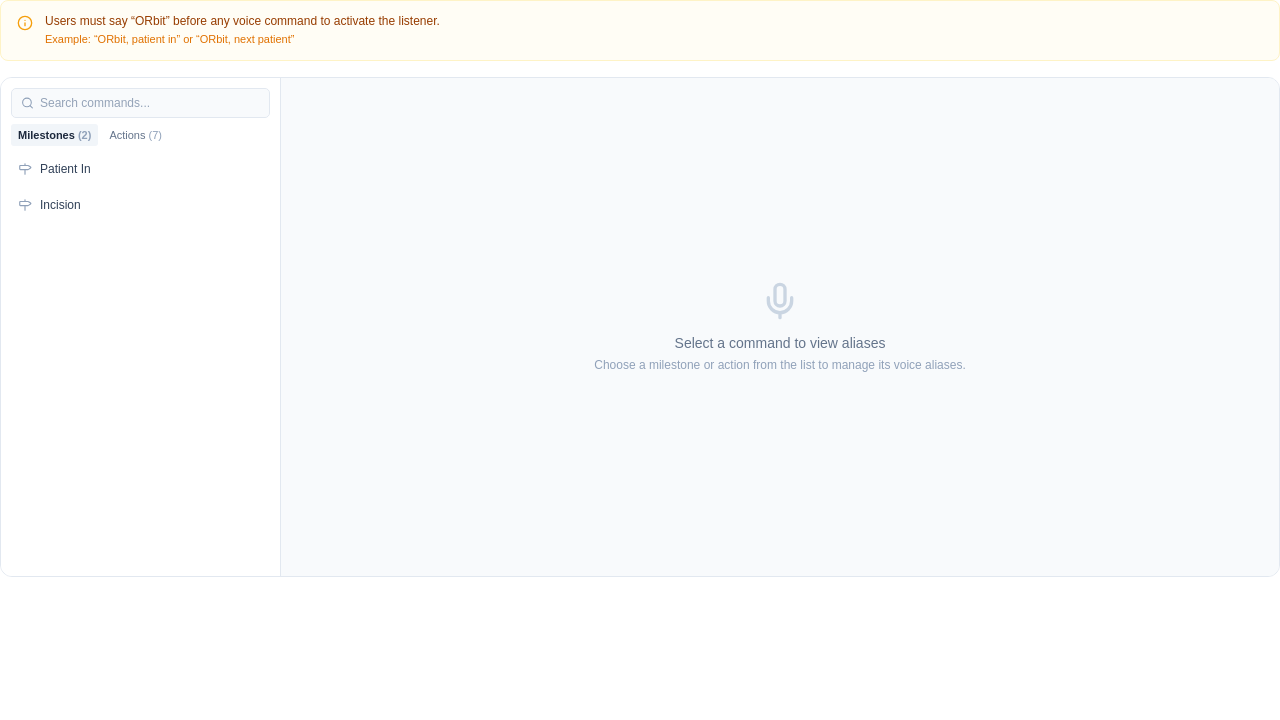
Scenario: Voice Commands Workflow › Workflow: Global aliases are protected › shows Global tag and hides delete button for global aliases
Select Patient In milestone
Click the text "Patient In".
click(65, 169)  # box 40,161 -> 91,177
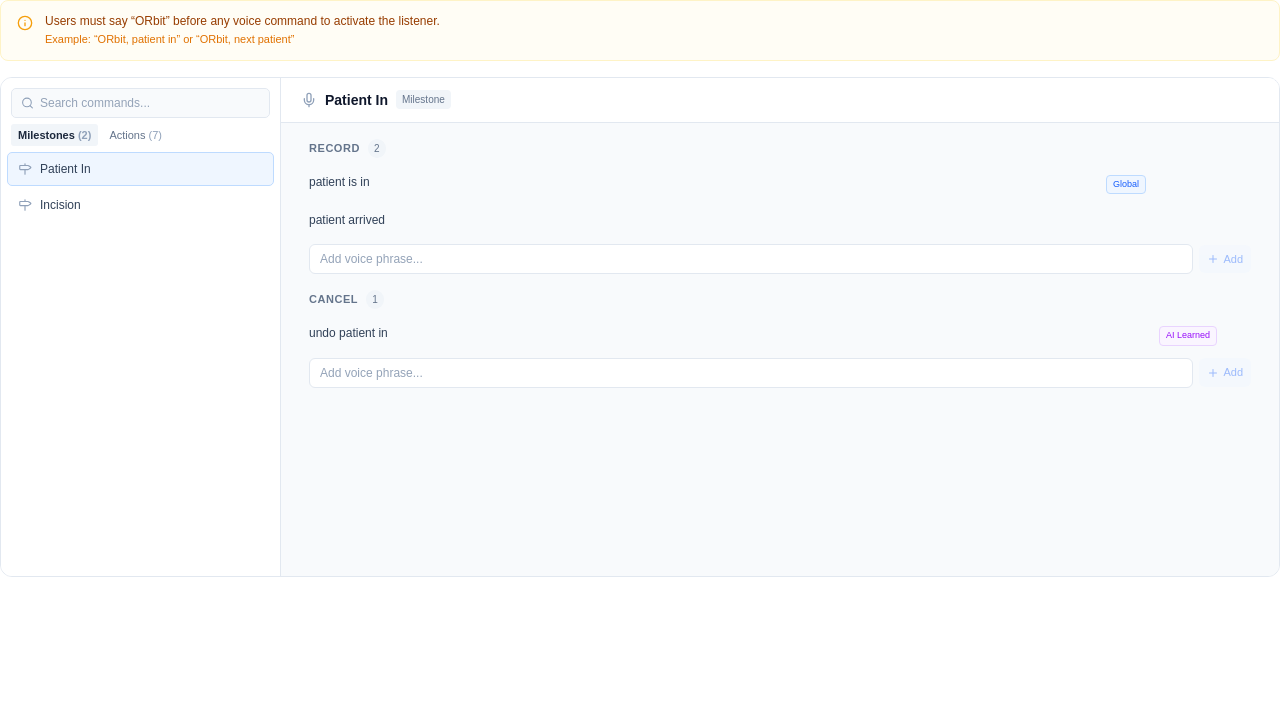
expect the text "patient is in" is shown: met, box 309,175 -> 370,189
expect the text "Global" is shown: met, box 1106,174 -> 1146,194
